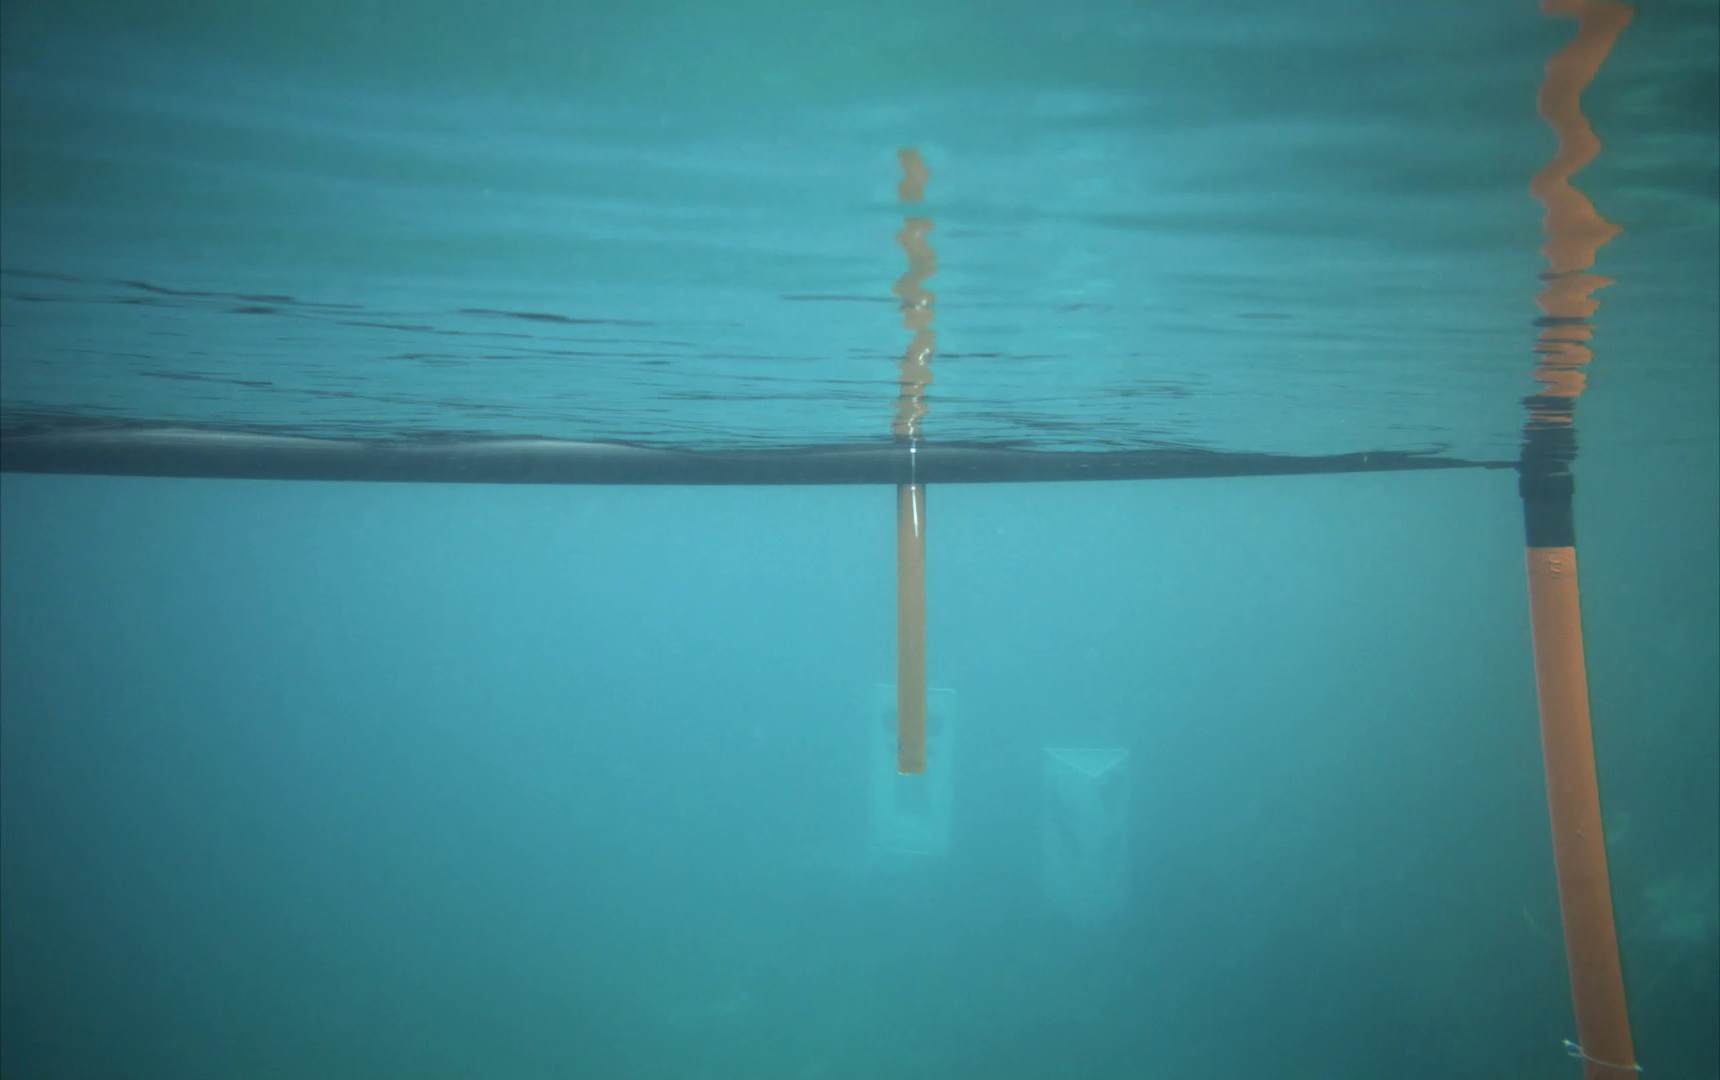start_gate: (1, 411, 1657, 1079)
start_tick: (884, 387, 936, 784)
